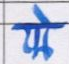e_matra: (33, 4, 51, 23)
